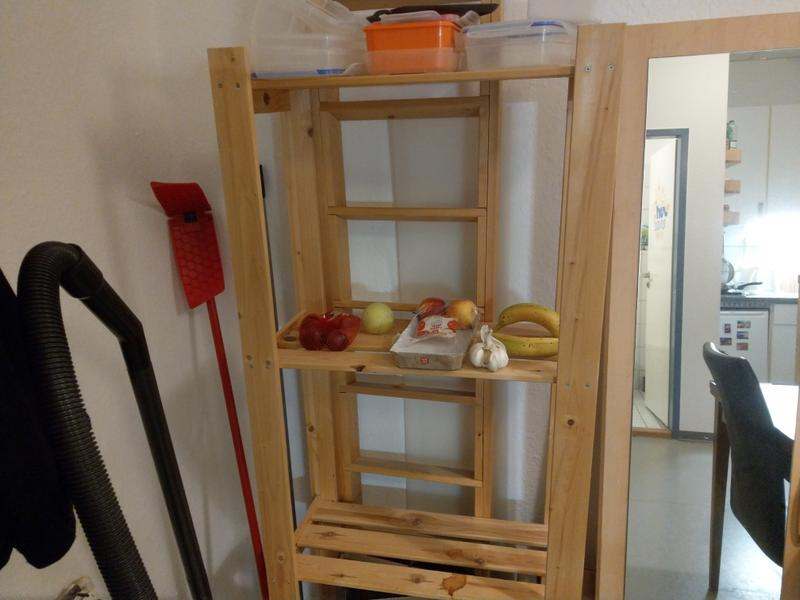Tennisball: (360, 299, 395, 335)
